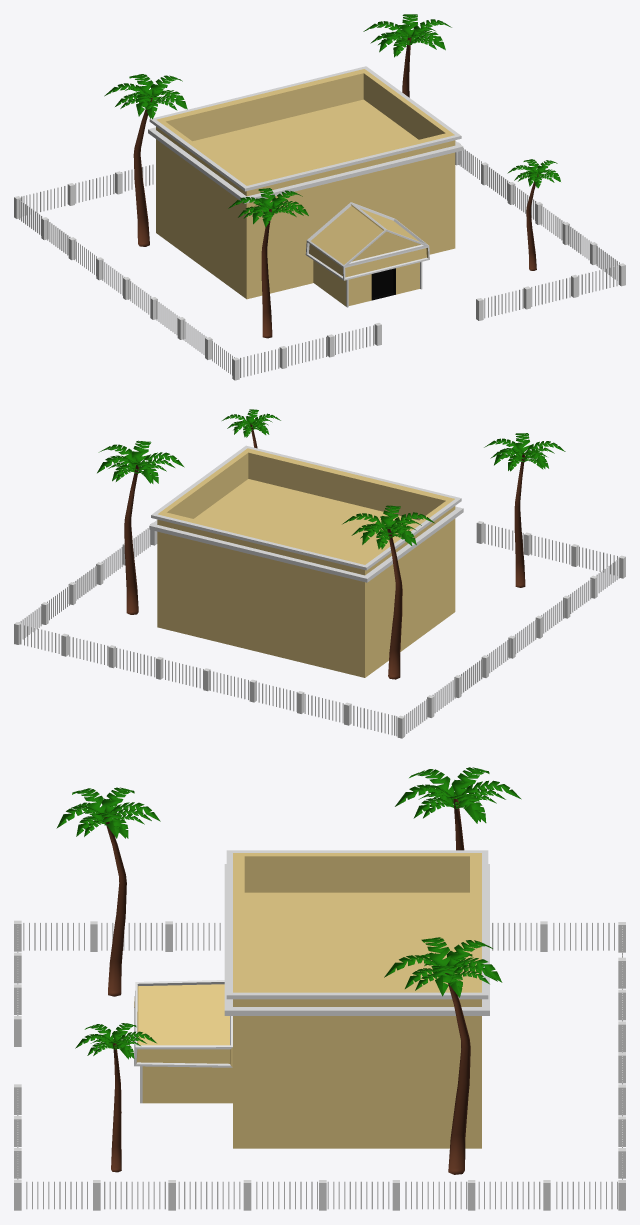
Rendered from igreja_1.fbx.
3 renders of one model, top to bottom at view 1: azimuth 30°, elevation 25°; view 2: azimuth 150°, elevation 25°; view 3: azimuth 270°, elevation 25°, orthographic. The views are drawn at different scales.
Parts seen in each view (by area): view 1: Cube; view 2: Cube; view 3: Cube.
Part boxes in pixels (x1,y1,x2,y2): Cube: (14, 14, 625, 380); Cube: (14, 409, 625, 738); Cube: (14, 767, 625, 1210).
Size of the model in its own units: 5399 by 2075 by 5323.
